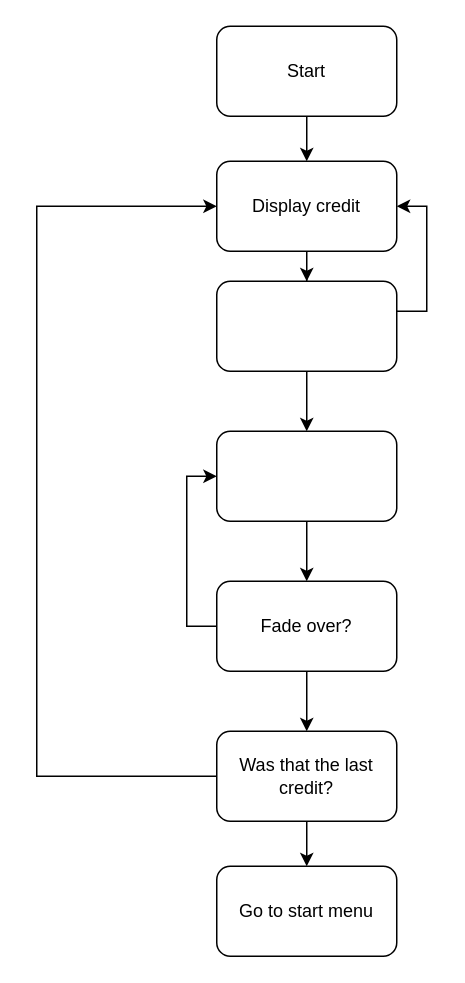
Some shapes in this 465 by 983 pixel diagram are drawn without their labels. The shapes that lost their labels are listed below. From the top down, each one's centre as x and y in pixels, then its label:
(306,325): Time to swap?
(306,475): Fade
